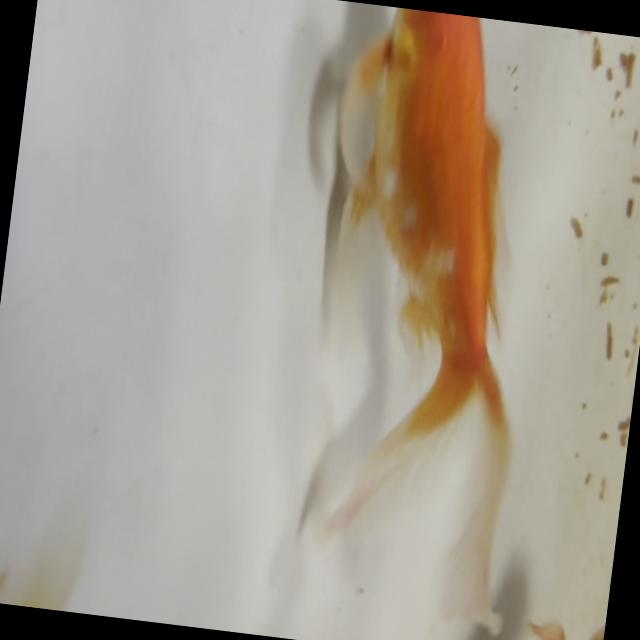fish: (283, 2, 568, 636)
